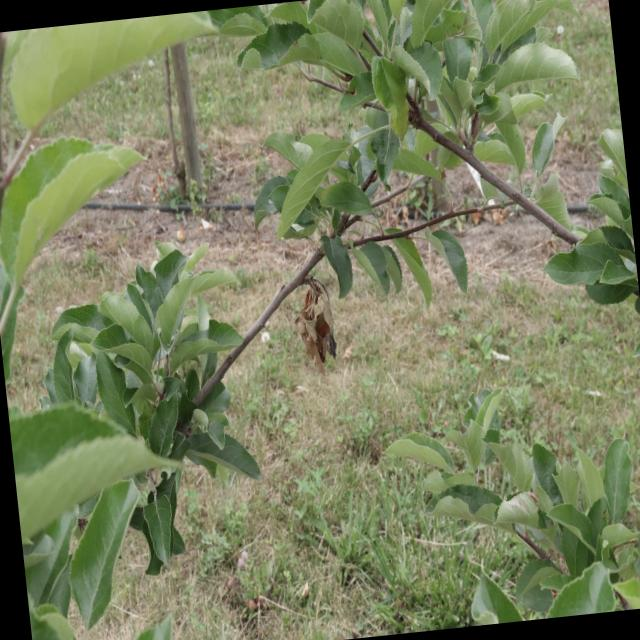-FireBlight-: (294, 272, 340, 373)
